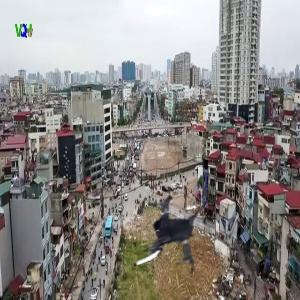drone: (109, 182, 216, 289)
